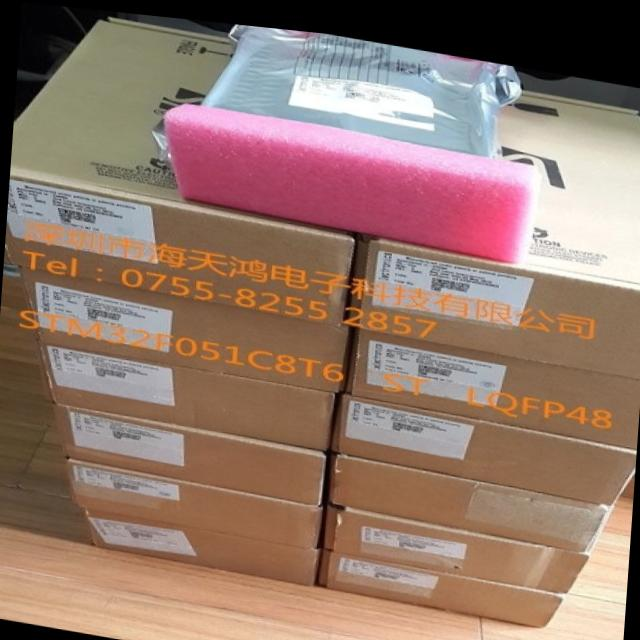box: (5, 13, 355, 321), (350, 78, 640, 366), (23, 269, 343, 387), (346, 317, 640, 436), (336, 389, 634, 492), (38, 344, 335, 443), (326, 446, 609, 540), (53, 403, 322, 497), (317, 499, 587, 582), (68, 460, 322, 542), (318, 544, 566, 616), (81, 508, 319, 578)
